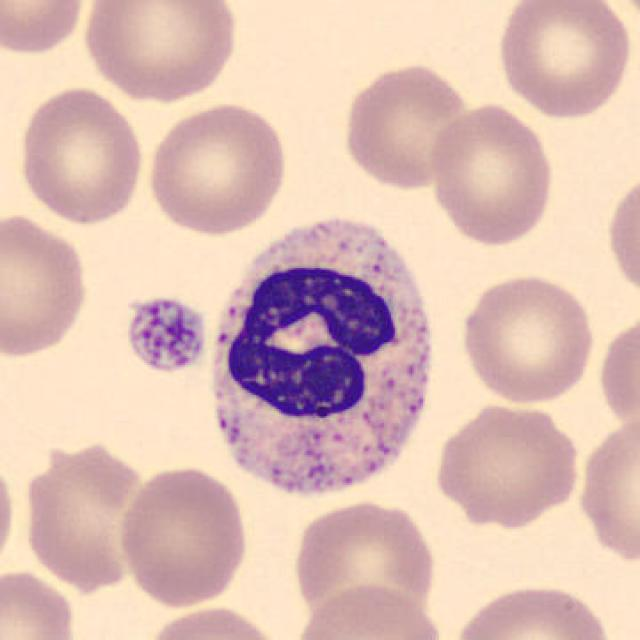Neutrophil: (198, 203, 447, 520)
Platelets: (119, 291, 212, 377)
RBC: (18, 434, 153, 594), (142, 99, 290, 238), (114, 462, 250, 610), (430, 398, 583, 529), (423, 100, 558, 247), (288, 497, 439, 626), (14, 83, 148, 227), (457, 270, 597, 406), (338, 60, 476, 192), (491, 0, 633, 122), (78, 0, 242, 104), (0, 207, 92, 361), (572, 409, 638, 570), (448, 578, 617, 640), (290, 580, 448, 640), (0, 566, 82, 640), (142, 601, 288, 640), (602, 165, 640, 305), (0, 0, 89, 58), (596, 309, 636, 437), (0, 450, 20, 580)
